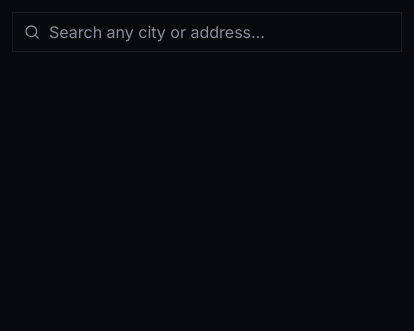
Test: LocationSearch › shows the five presets when the empty input is focused
Focus the dropdown at [207, 32], box [12,12,402,52]
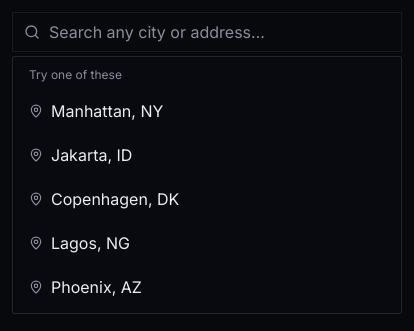
expect the text "Manhattan, NY" is shown: met, box [51,99,163,123]
expect the text "Jakarta, ID" is shown: met, box [51,143,132,167]
expect the text "Copenhagen, DK" is shown: met, box [51,187,179,211]
